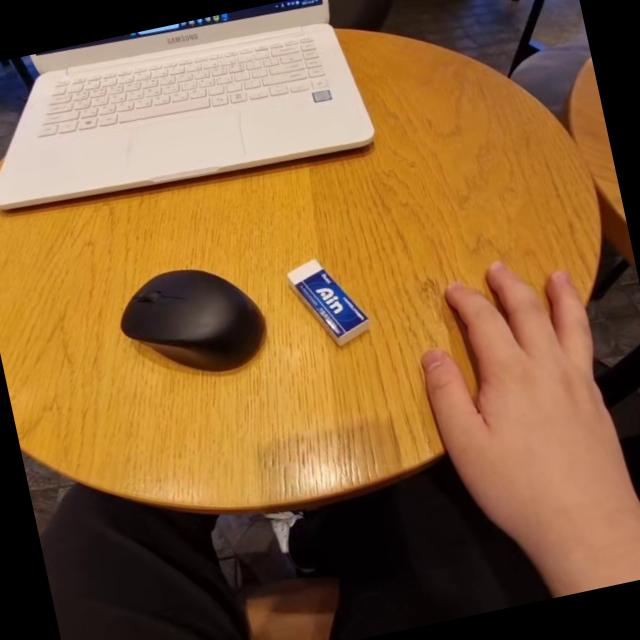eraser: (285, 245, 379, 358)
hand: (411, 230, 640, 587)
mouse: (106, 243, 279, 389)
